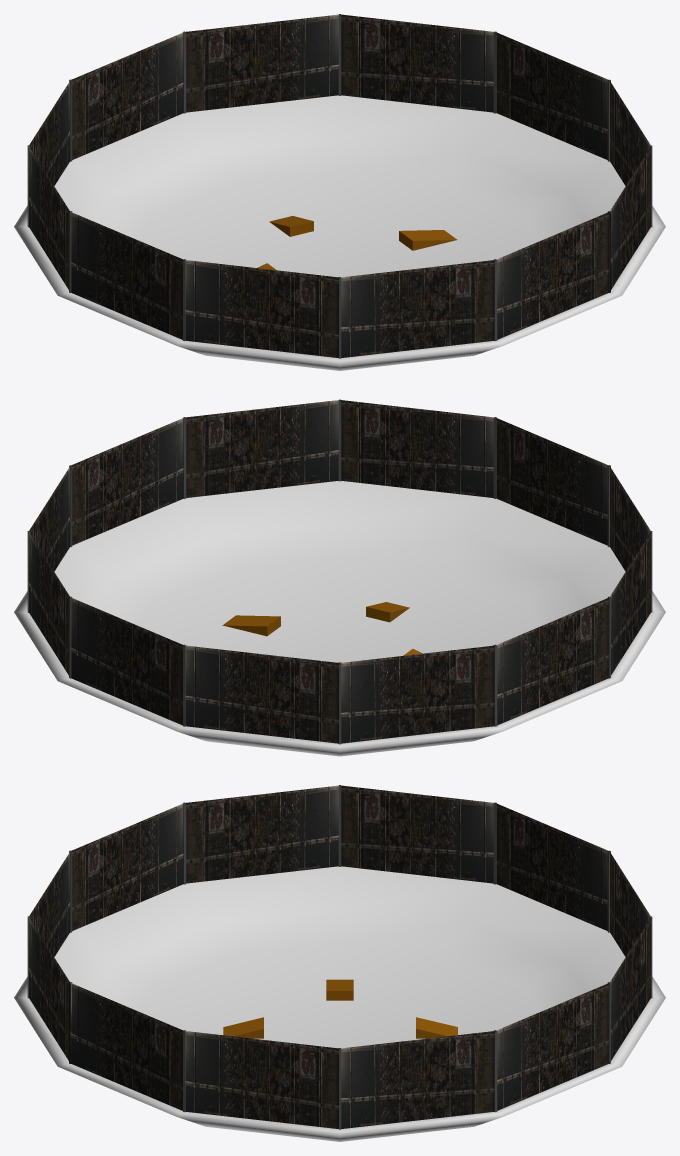
File: obj_Arena.fbx
3 views of the same model, one above another, from view 1: azimuth 30°, elevation 25°; view 2: azimuth 150°, elevation 25°; view 3: azimuth 270°, elevation 25° (orthographic).
Visible parts, largest first — view 1: Cube, Circle, Cube.004, Cube.003; view 2: Cube, Circle, Cube.004, Cube.005; view 3: Cube, Circle, Cube.003, Cube.005, Cube.001.
Part boxes in pixels (bbox=[...]): Cube: bbox=[27, 14, 652, 358]; Circle: bbox=[14, 95, 665, 370]; Cube.004: bbox=[399, 230, 457, 250]; Cube.003: bbox=[269, 216, 313, 236]; Cube: bbox=[27, 399, 652, 744]; Circle: bbox=[14, 481, 665, 756]; Cube.004: bbox=[222, 615, 280, 636]; Cube.005: bbox=[366, 602, 409, 622]; Cube: bbox=[27, 785, 652, 1129]; Circle: bbox=[14, 866, 665, 1141]; Cube.003: bbox=[416, 1017, 457, 1038]; Cube.005: bbox=[223, 1017, 263, 1038]; Cube.001: bbox=[326, 979, 353, 1000].
Bounding box in the file's own units: 176 × 37.25 × 176.
